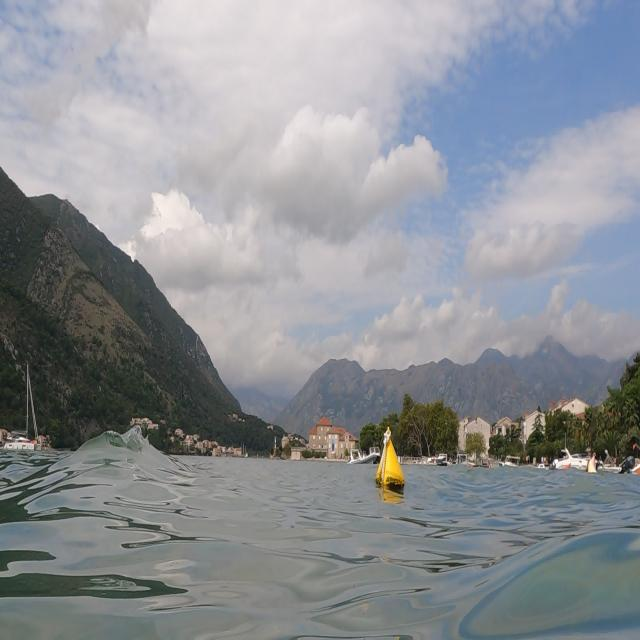boat: (0, 340, 60, 468)
buoy: (372, 423, 408, 499)
